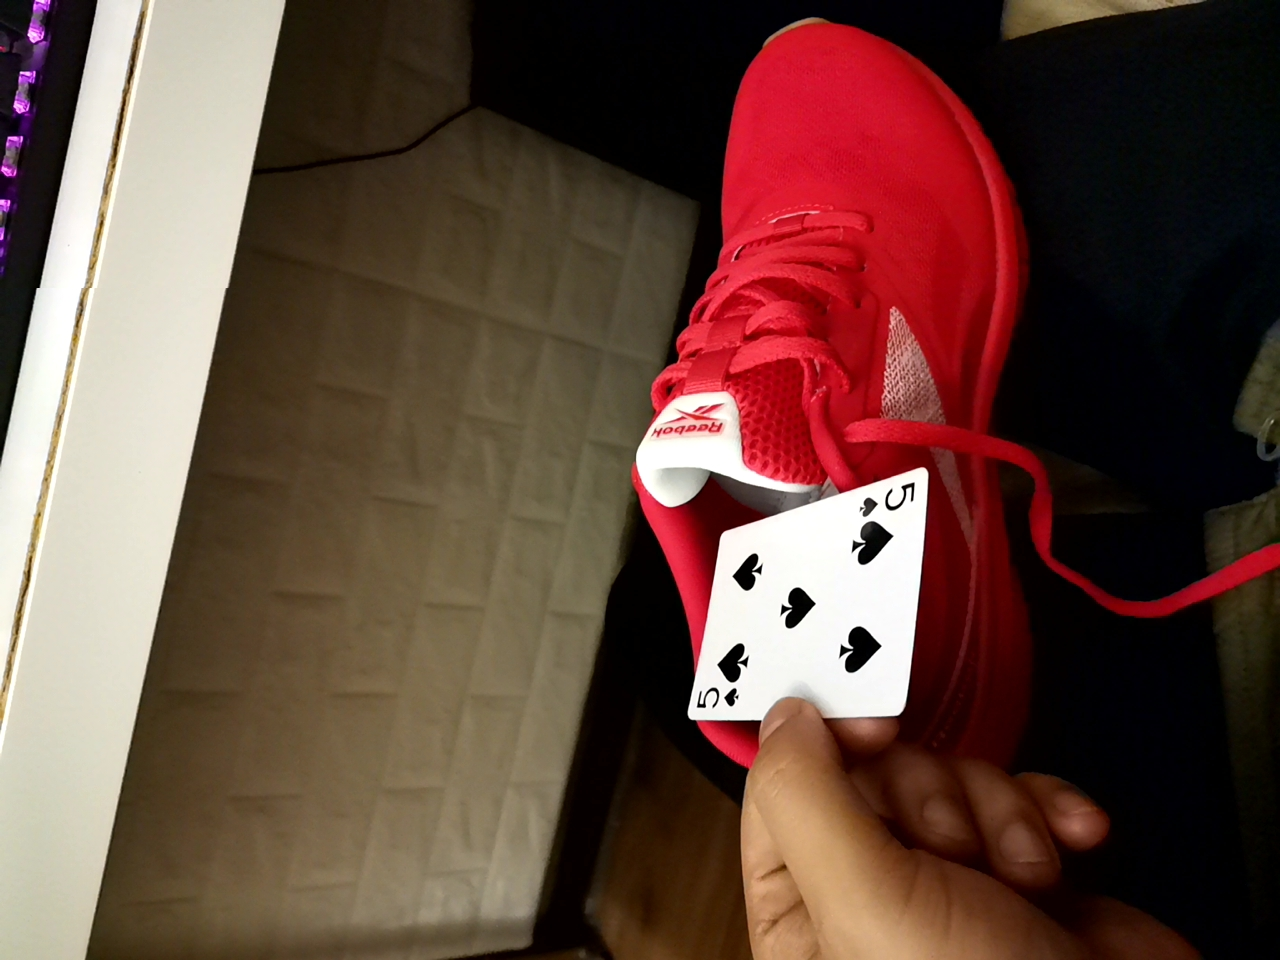ht 5: (666, 435, 945, 762)
